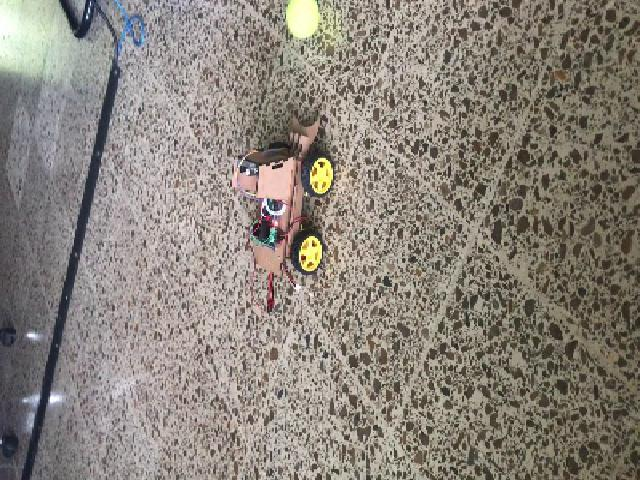Ball: (286, 0, 318, 37)
Robot: (229, 112, 334, 277)
